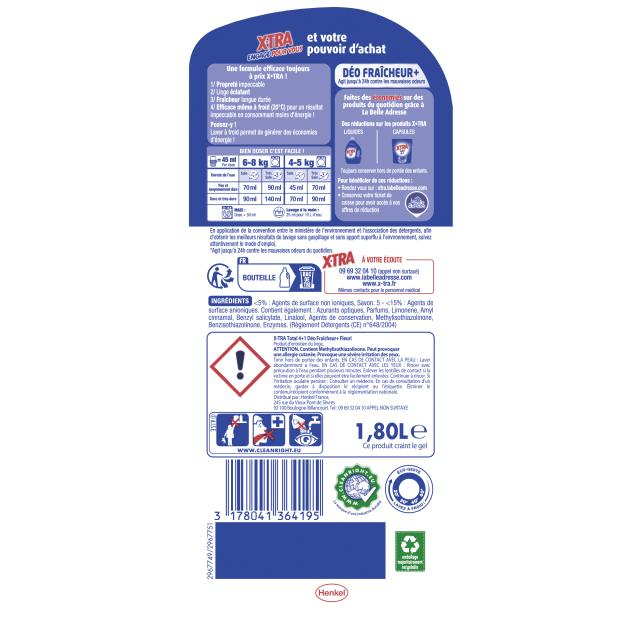GHS_Symbol_EXCLAMATION_MARK: (208, 336, 270, 397)
